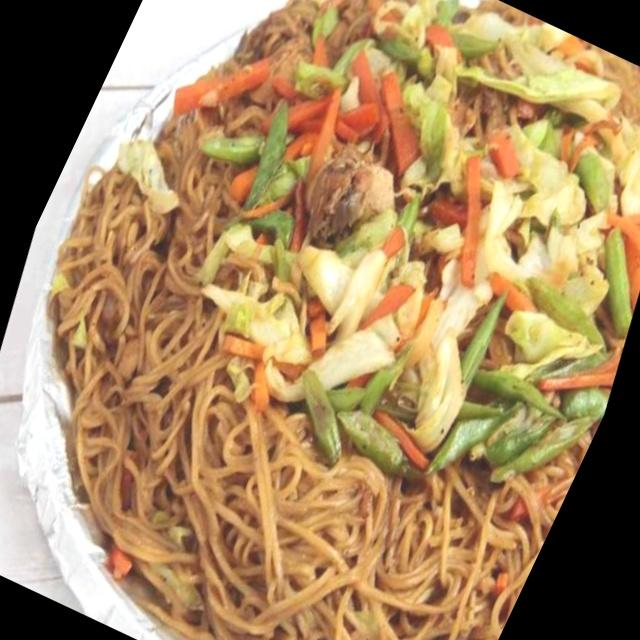pancit bihon: (68, 0, 639, 639)
